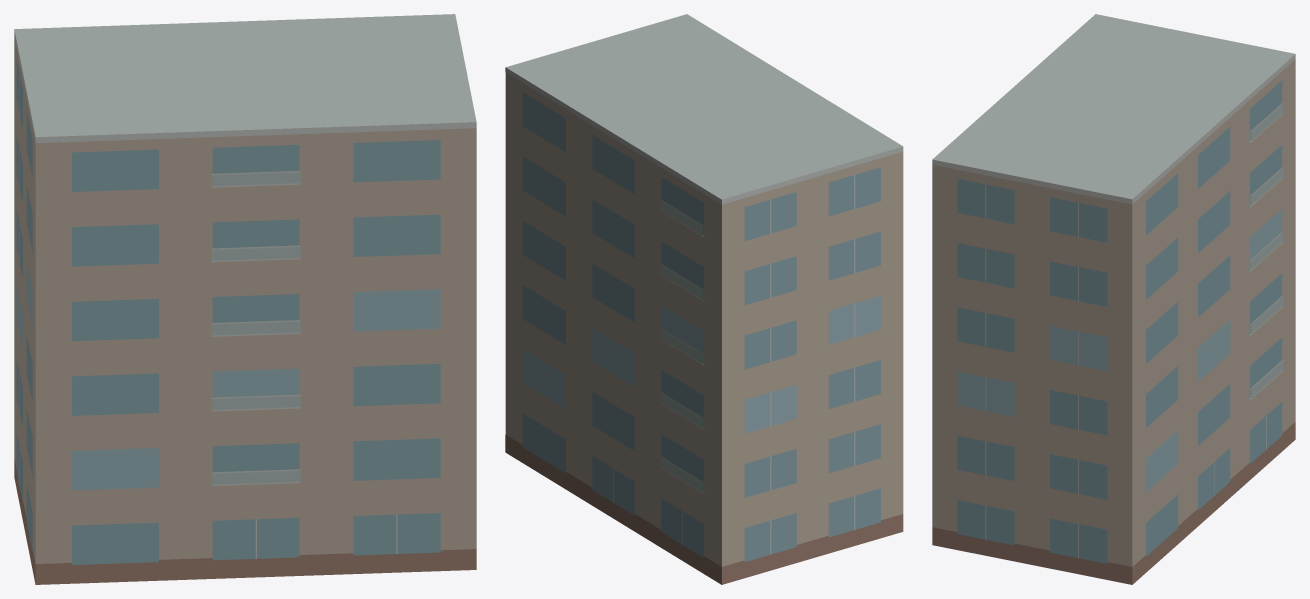
Rendered from survey-upis-32550685.glb.
3 renders of one model, left to right at view 1: azimuth 30°, elevation 25°; view 2: azimuth 150°, elevation 25°; view 3: azimuth 270°, elevation 25°, orthographic. The views are drawn at different scales.
Parts seen in each view (by area): view 1: survey-upis-32550685.tmp; view 2: survey-upis-32550685.tmp; view 3: survey-upis-32550685.tmp.
Boxes of the visible parts, bbox=[...] form: survey-upis-32550685.tmp: bbox=[14, 14, 476, 584]; survey-upis-32550685.tmp: bbox=[505, 14, 903, 584]; survey-upis-32550685.tmp: bbox=[932, 14, 1295, 584].
Size of the model in its own units: 18.88 by 18.3 by 15.64.
